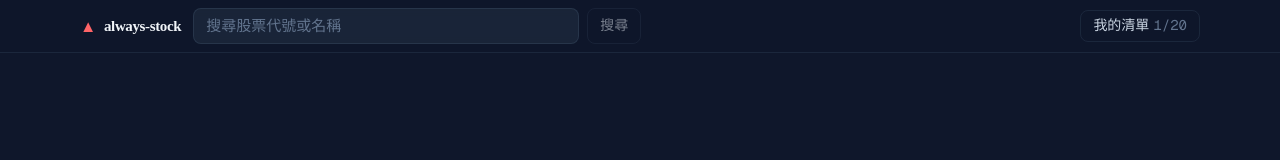
Test case: Navbar › shows the specified error message when stock is not found
In the field labelled "搜尋股票代號或名稱": (386,26) [193,8,579,44], type "9999"
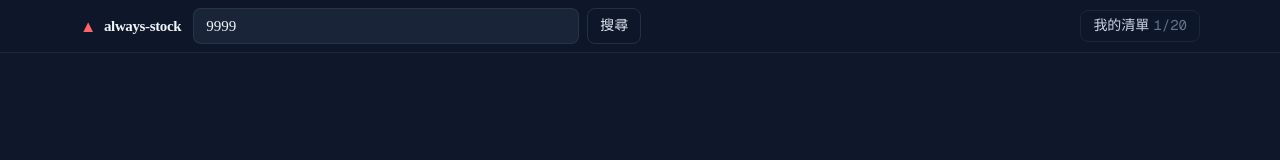
Submit the form "搜尋", box [193,8,641,44]
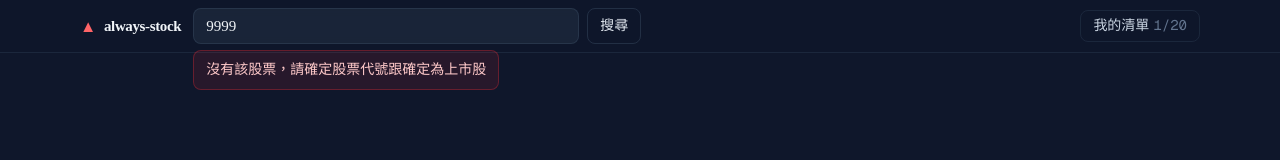
Result: the text "沒有該股票，請確定股票代號跟確定為上市股" is shown at [193,50,499,90]
